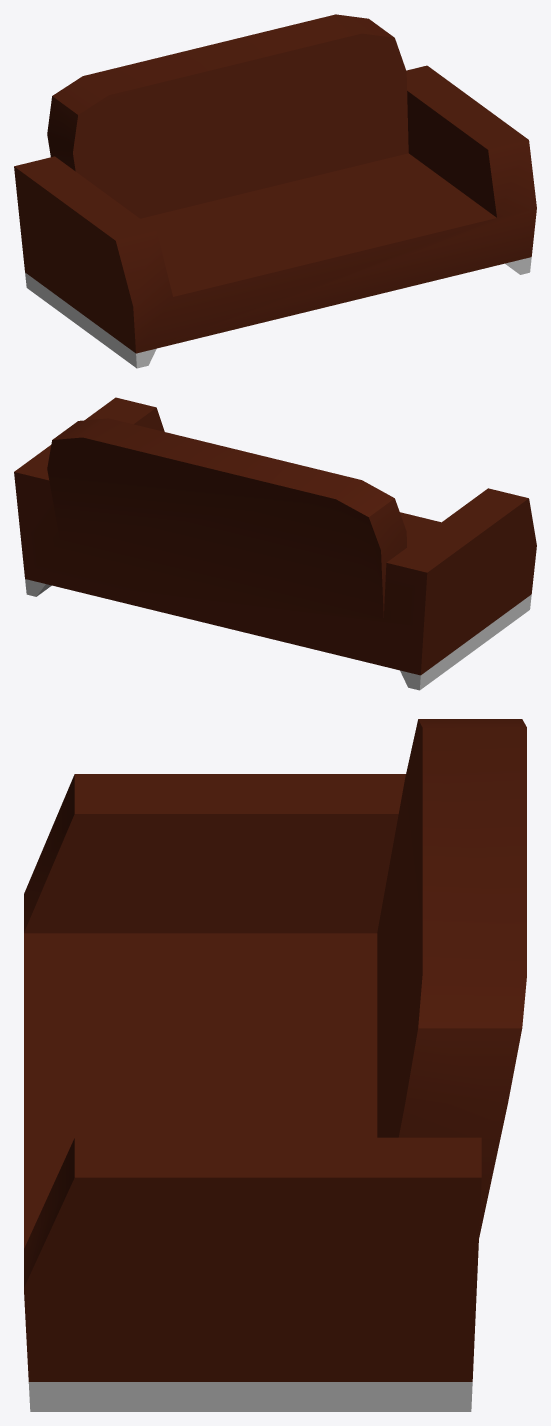
File: sofa.FBX
3 renders of one model, top to bottom at view 1: azimuth 30°, elevation 25°; view 2: azimuth 150°, elevation 25°; view 3: azimuth 270°, elevation 25°, orthographic. The views are drawn at different scales.
Visible parts, largest first — view 1: Box008; view 2: Box008; view 3: Box008.
Boxes of the visible parts, <box> form: Box008: <box>14,14,536,368</box>; Box008: <box>14,397,536,690</box>; Box008: <box>24,719,526,1411</box>.
Size of the model in its own units: 137 by 58.26 by 72.05.
